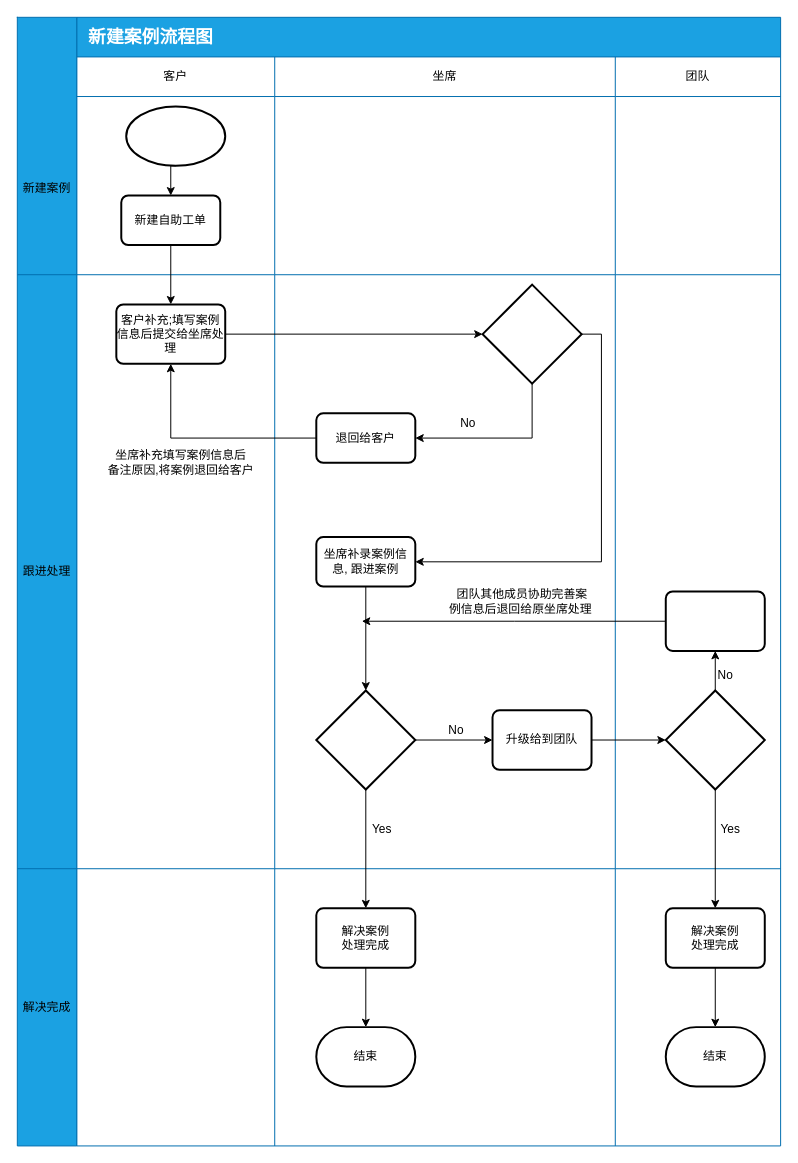
The diagram is 798 pixels wide and 1163 high, and some of its shapes have lost their labels. Here are the shapes that lost their labels. From the top down, the box of each, then its label:
(125, 105, 226, 166): 开始
(481, 283, 582, 384): 坐席是否可 以直接处理
(664, 590, 765, 651): 退回
(315, 689, 416, 790): 是否能独立 处理案例
(664, 689, 765, 790): 是否直接处理
